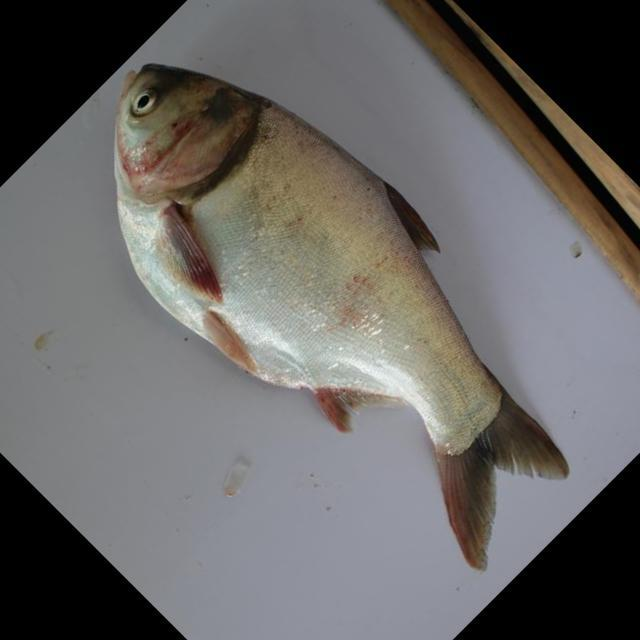SilverCarp: (90, 59, 568, 564)
